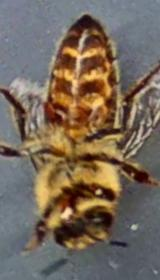varroa_mite: (29, 92, 66, 126)
